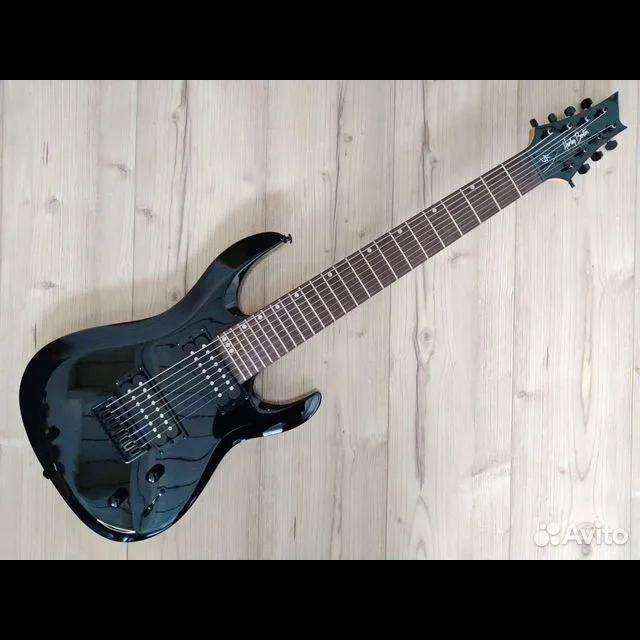Electric-Guitar: (20, 90, 628, 540)
